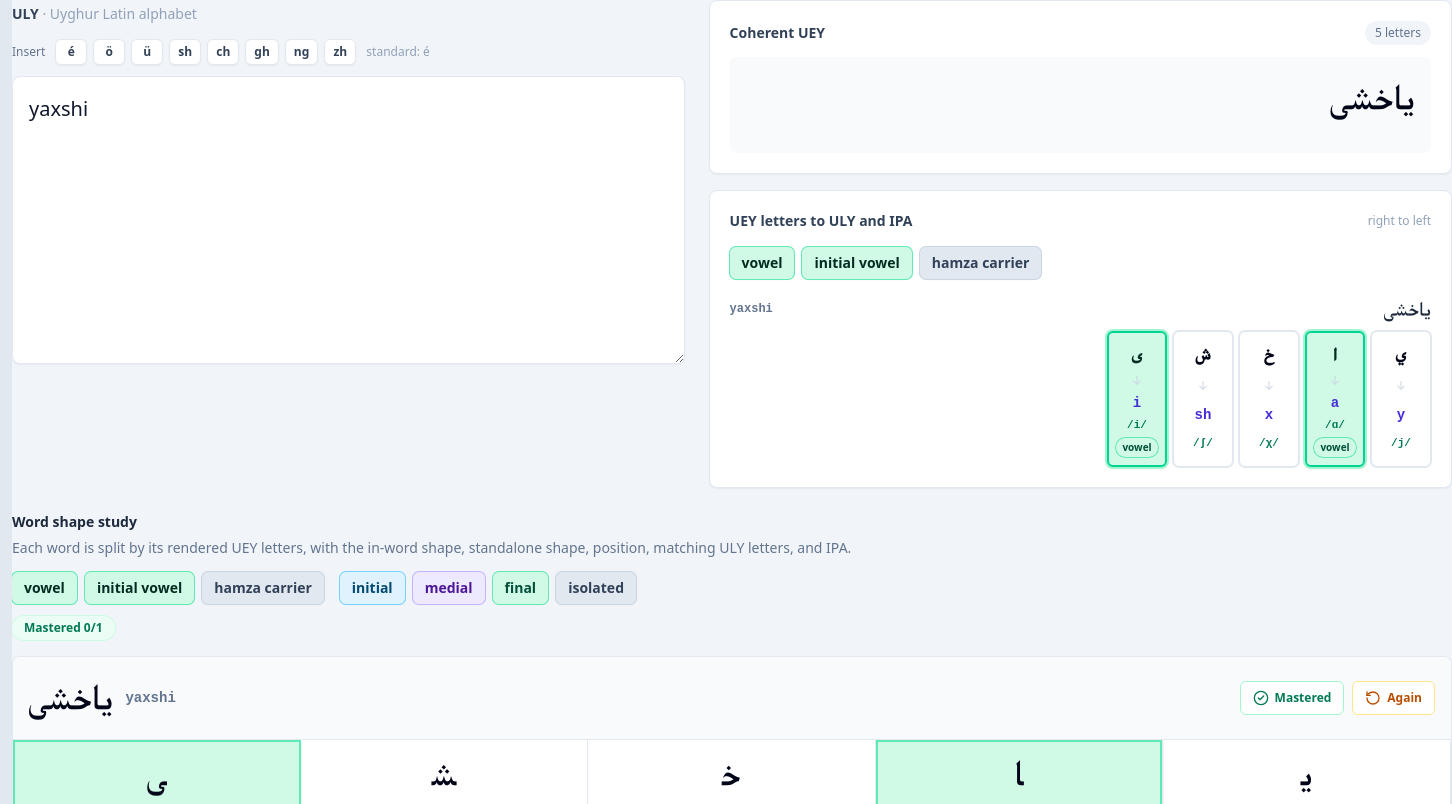
LearnPanel › saves word study progress locally
The image size is (1452, 804).
Click the button with aria-label "Mark yaxshi mastered" at (1292, 698), box [1240,681,1344,715]
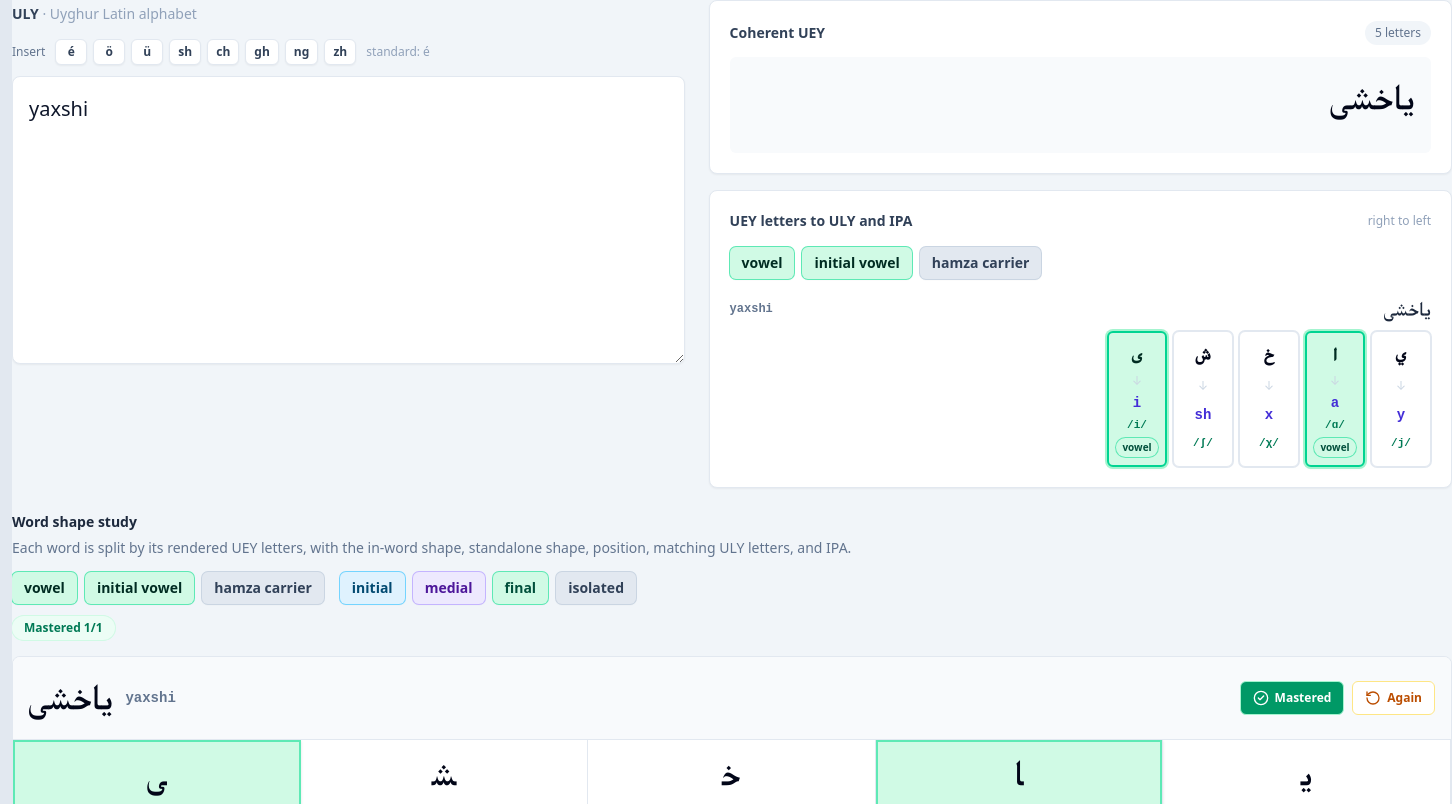
Result: the text "Mastered 1/1" is shown at [12,616,115,640]
